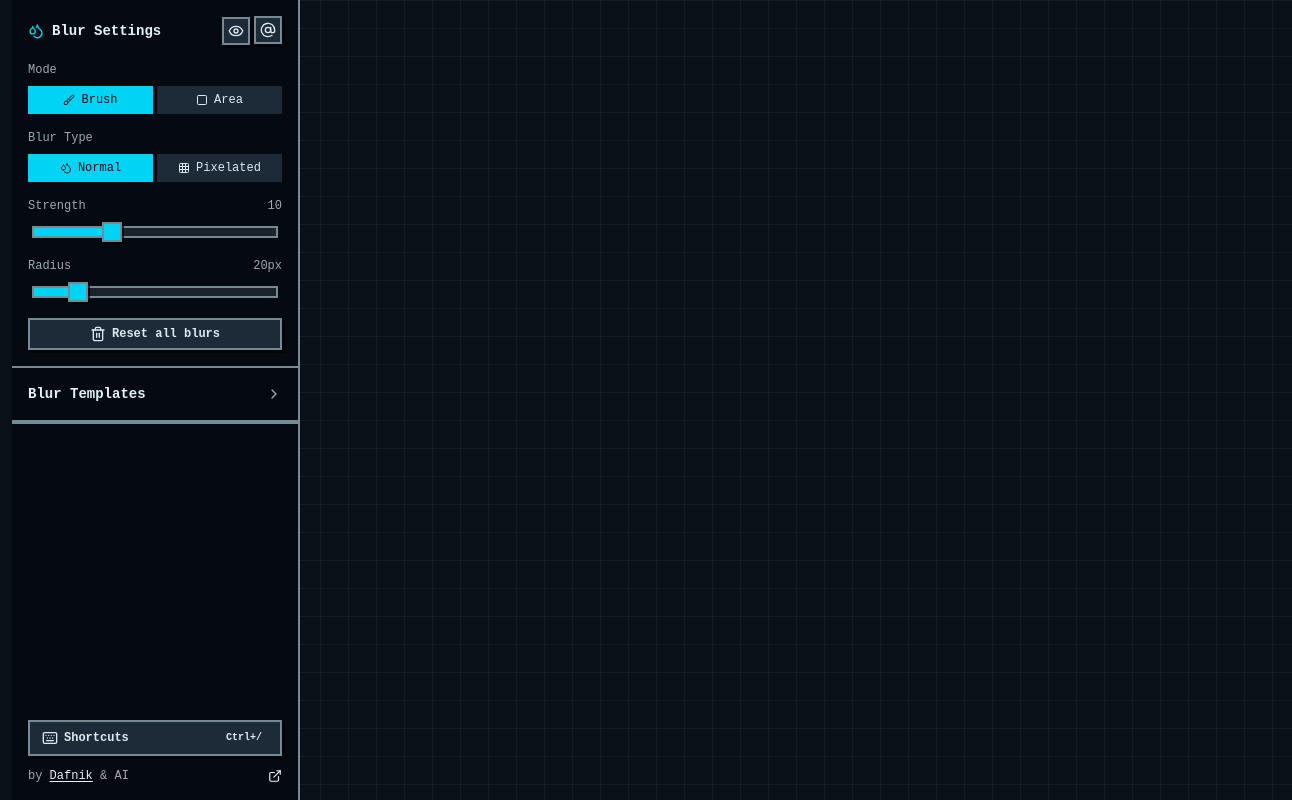
Test: EditorSidebar blur settings behavior › shows no-email status and keeps history unchanged when OCR finds no emails
What coordinates should you click on to do the following:
click the button named "open auto blur menu"
I would click on:
 (268, 30)
Its box is [254,16,282,44].
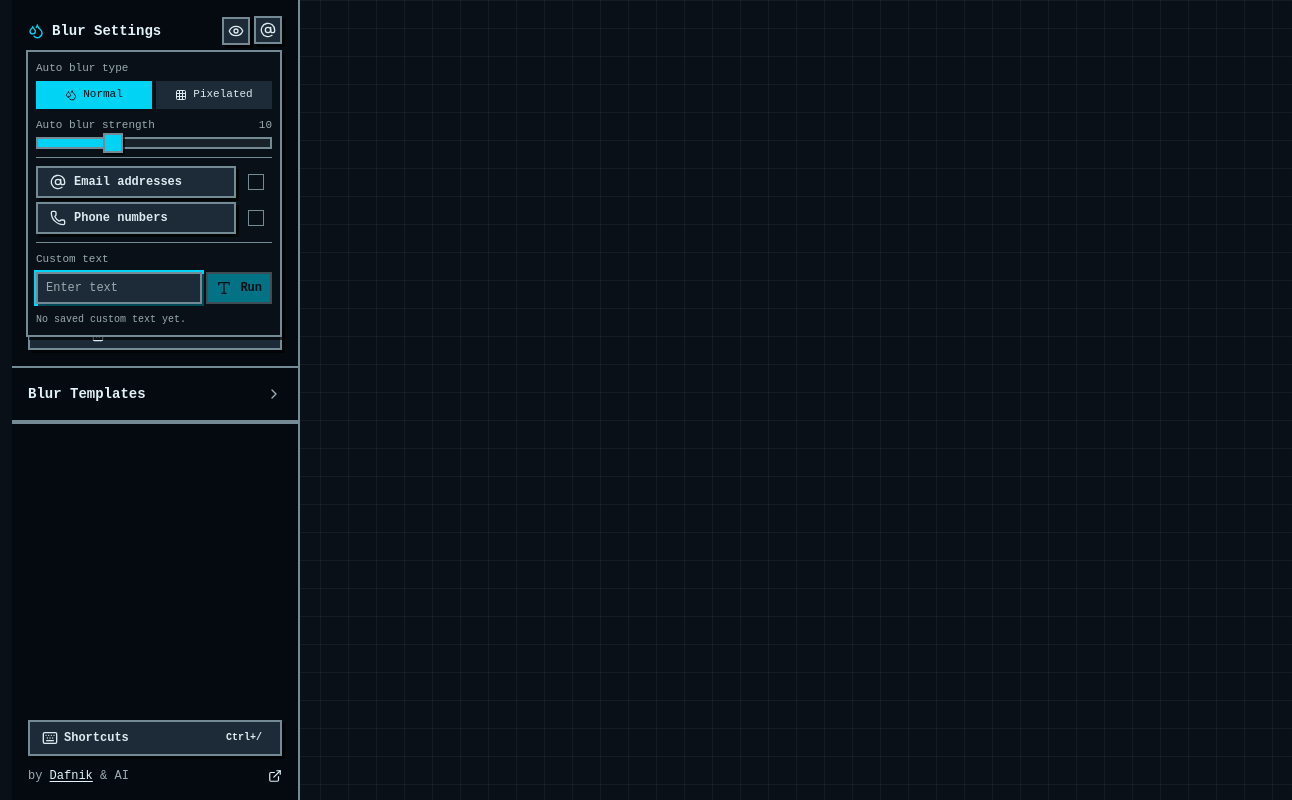
What coordinates should you click on to do the following:
click the button with aria-label "auto blur email addresses"
I would click on:
 (136, 182)
Its box is [36,166,236,198].
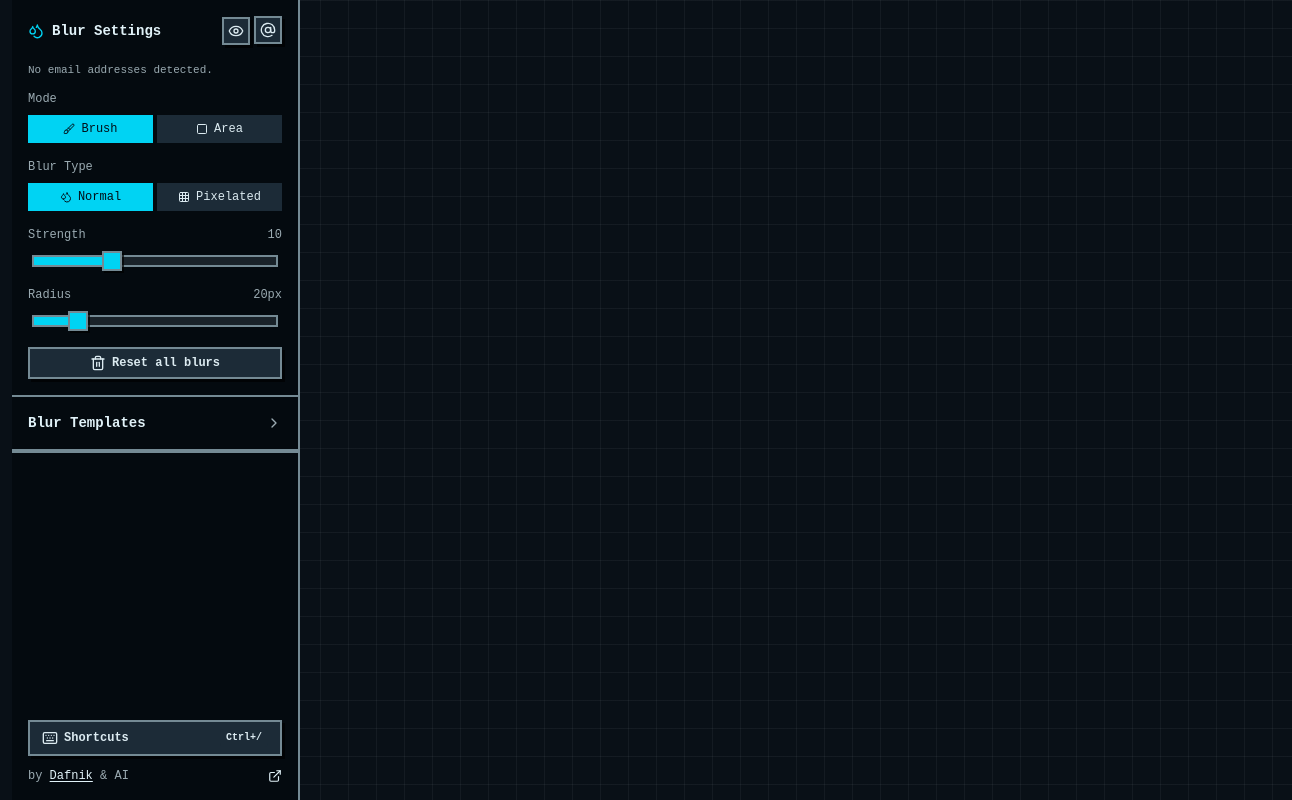
Result: the text "No email addresses detected." is shown at [28,64,213,76]
